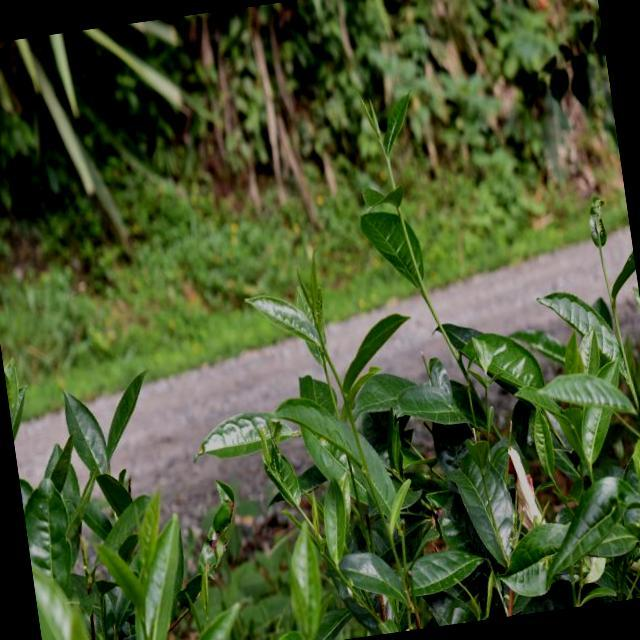Stem: (321, 346, 330, 361), (422, 290, 431, 305)
